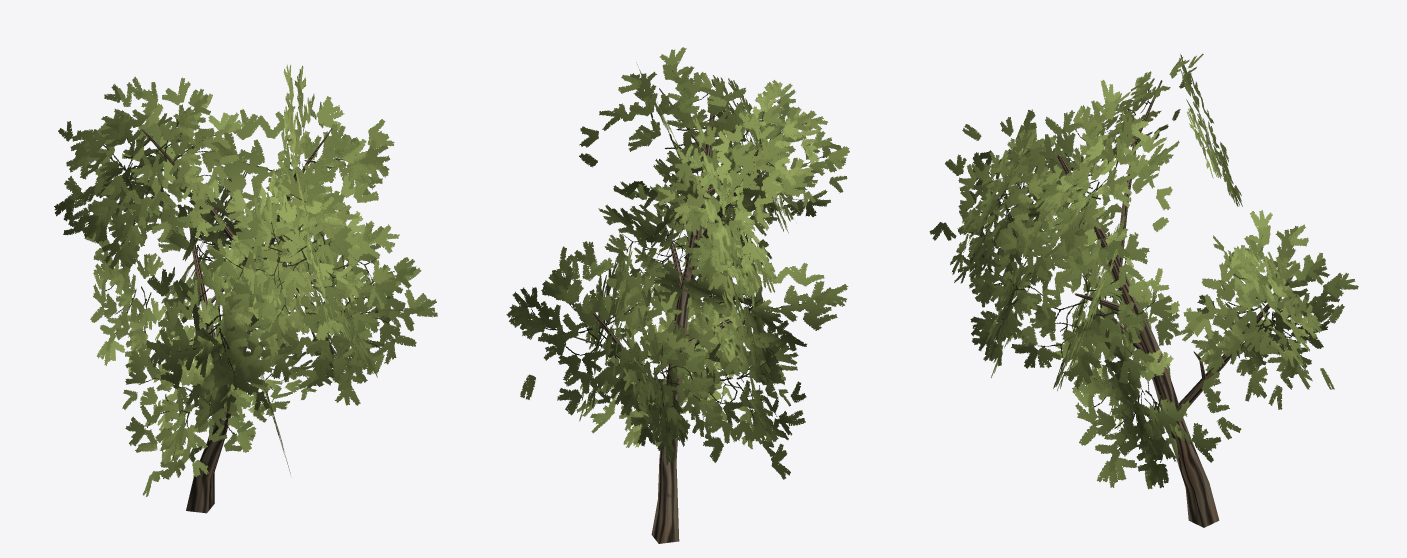
The model's file is sapling-a.lod1.glb.
The picture shows the model from 3 angles, left to right: view 1: azimuth 30°, elevation 25°; view 2: azimuth 150°, elevation 25°; view 3: azimuth 270°, elevation 25°; orthographic projection. The views are drawn at different scales.
Visible parts, largest first — view 1: foliage, bark; view 2: foliage, bark; view 3: foliage, bark.
Boxes of the visible parts, box(x1,y1,x2,y2) form: foliage: box(54, 64, 437, 496); bark: box(142, 128, 333, 513); foliage: box(506, 47, 849, 479); bark: box(574, 88, 761, 543); foliage: box(929, 53, 1358, 489); bark: box(1031, 80, 1289, 527).
Size of the model in its own units: 0.8957 by 1.3 by 1.14.
2 materials, 2 textured.
